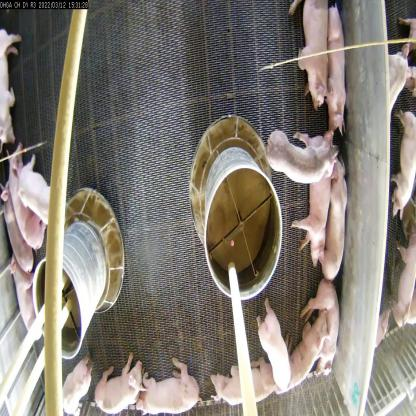Pig: (207, 348, 301, 415), (292, 273, 347, 375), (266, 121, 336, 195), (248, 294, 298, 394), (1, 155, 44, 267), (301, 132, 336, 264), (292, 0, 333, 111), (123, 352, 195, 415), (6, 188, 40, 292), (322, 5, 349, 129), (87, 361, 147, 416), (329, 148, 351, 290), (14, 156, 54, 228), (284, 315, 322, 385), (47, 363, 96, 416)
